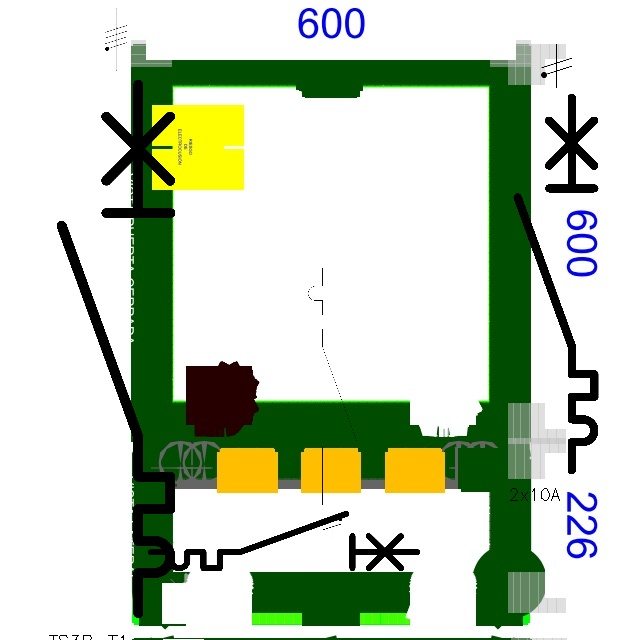interruptor_termomagnetico: (48, 70, 184, 626), (508, 88, 604, 479), (144, 507, 424, 575), (302, 262, 363, 511)
